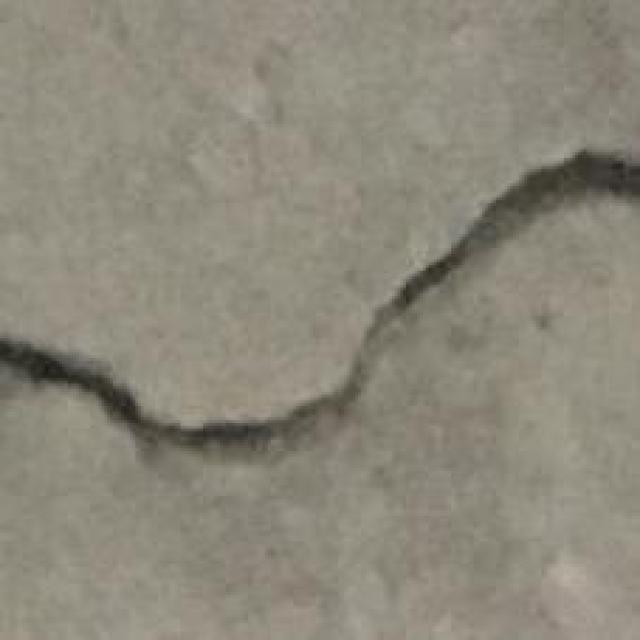curved crack: (0, 149, 639, 450)
